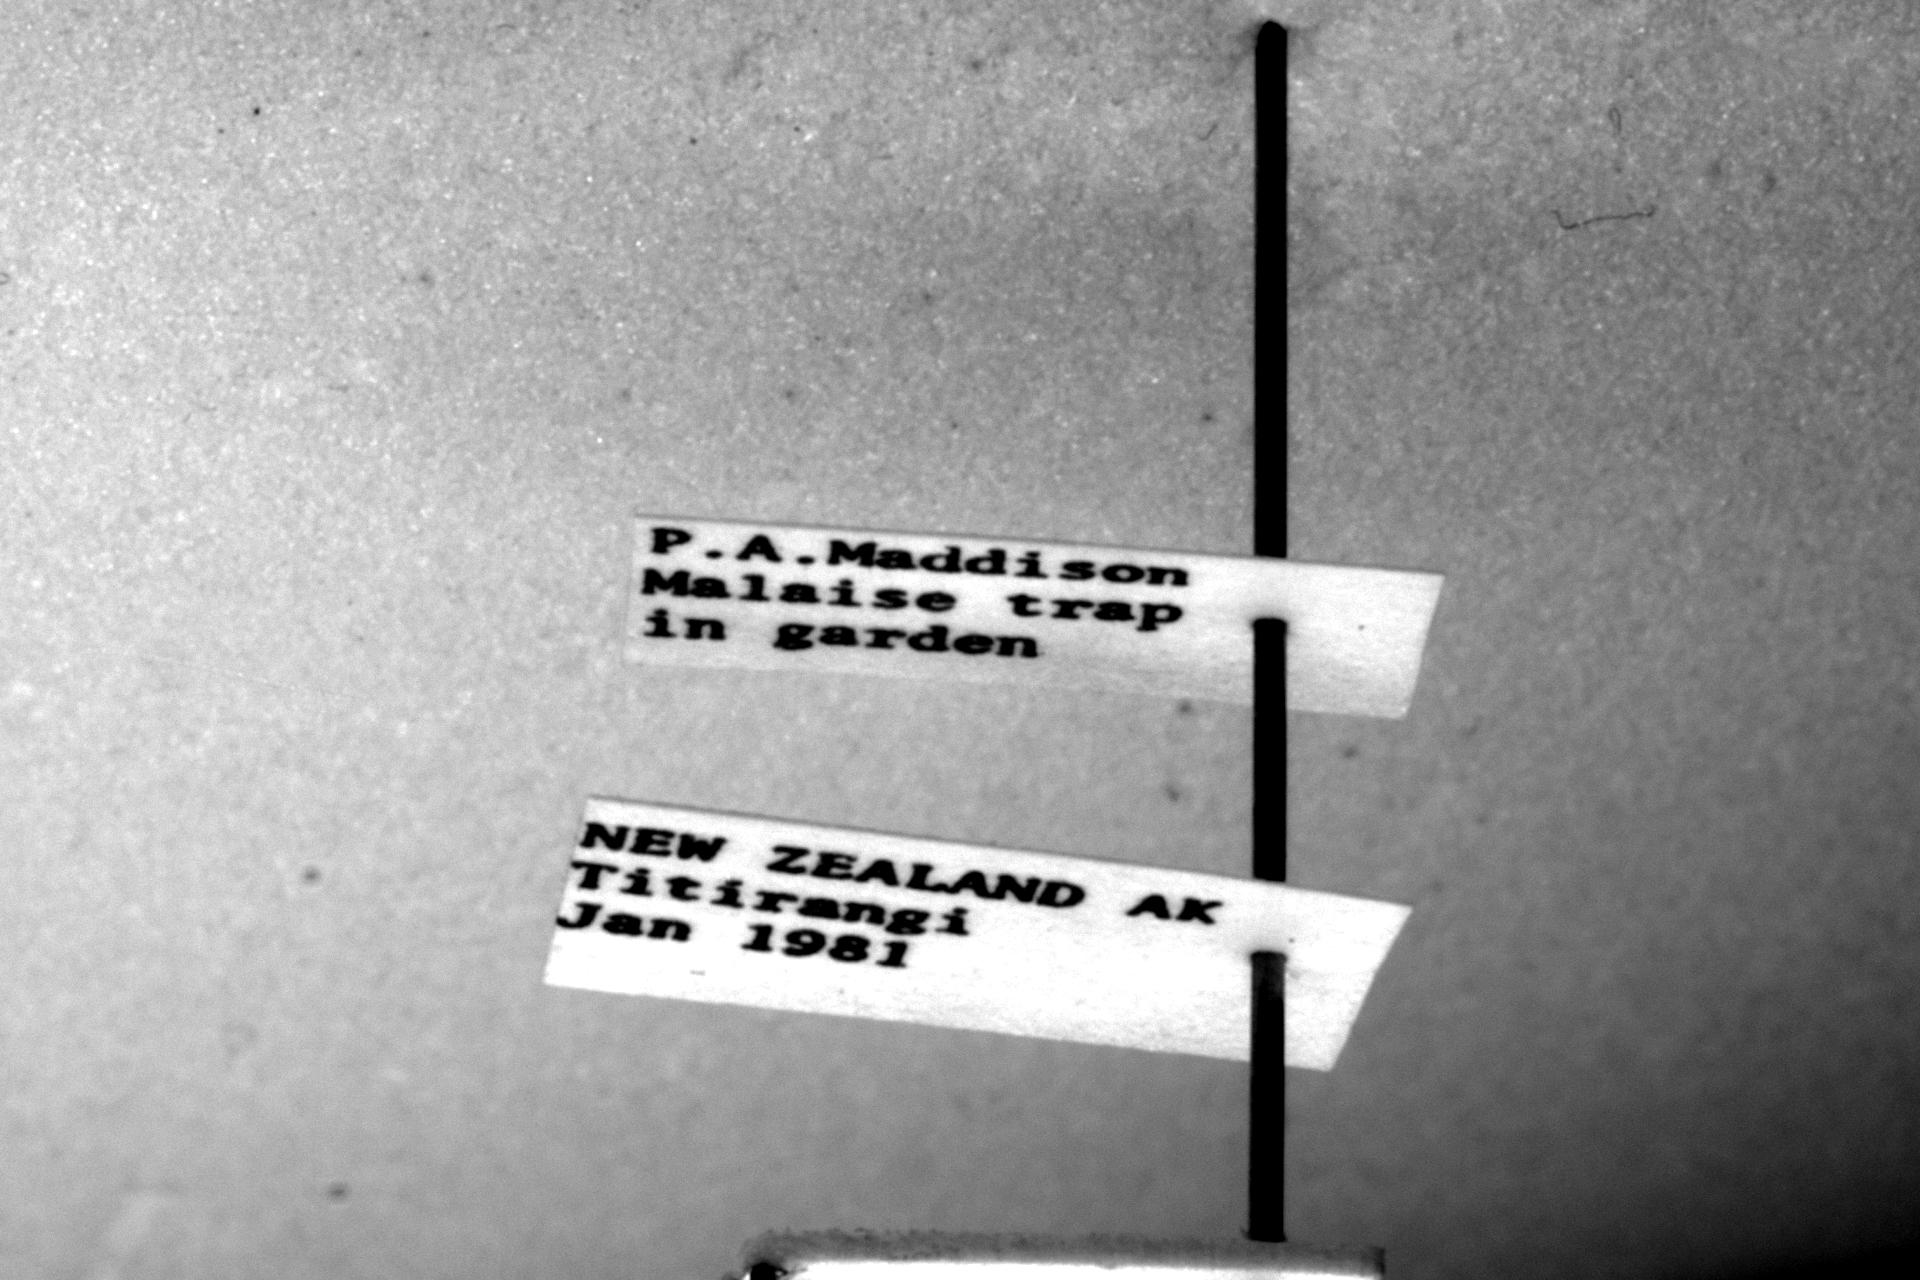typed_label: (544, 799, 1410, 1069), (626, 518, 1444, 716)
